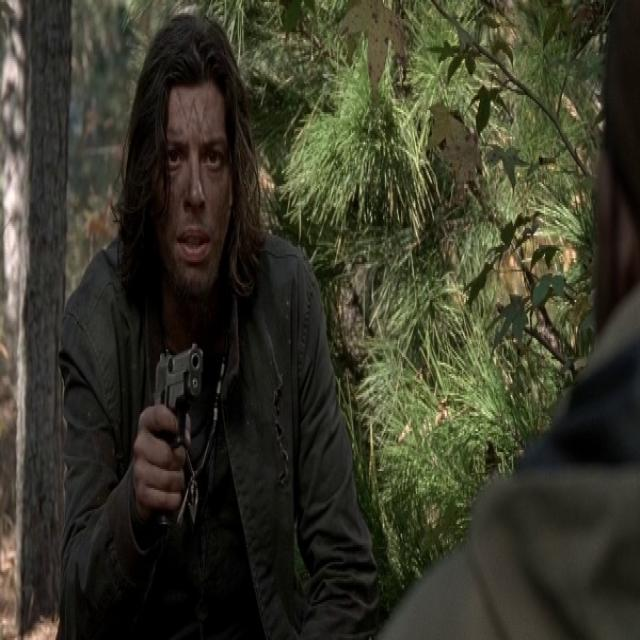weapons: (132, 320, 214, 522)
